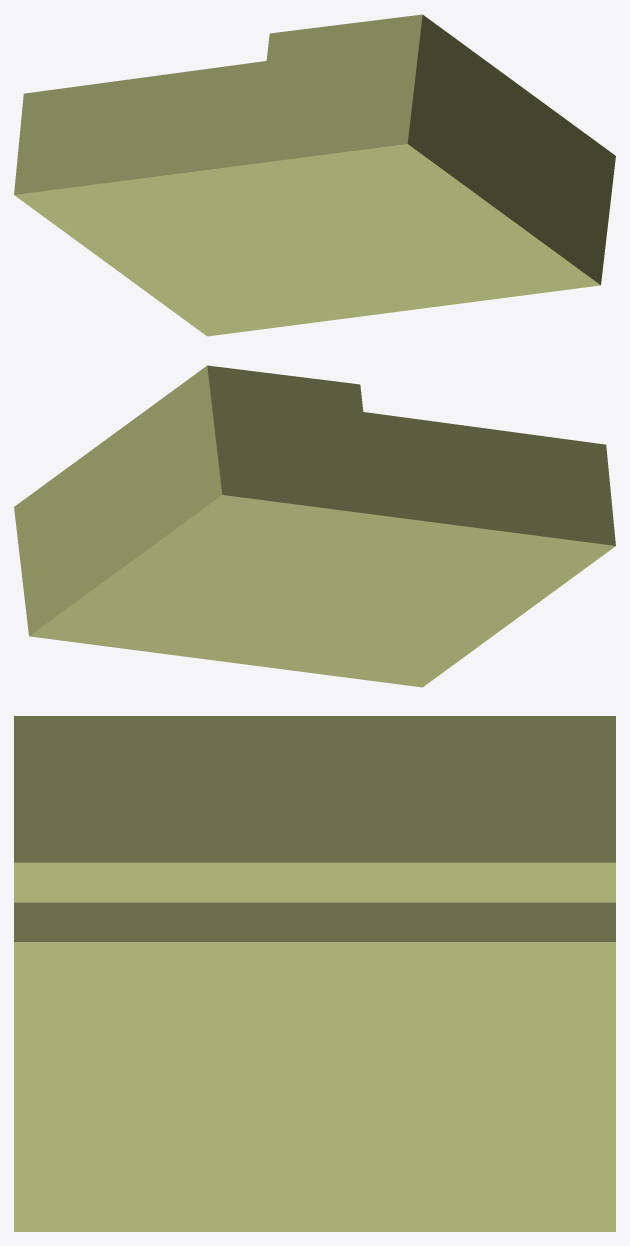
3 views of the same model, one above another, from view 1: azimuth 30°, elevation 25°; view 2: azimuth 150°, elevation 25°; view 3: azimuth 270°, elevation 25° (orthographic). The views are drawn at different scales.
Visible parts, largest first — view 1: 0_0_1_3_2_2_3_3_1_1_0; view 2: 0_0_1_3_2_2_3_3_1_1_0; view 3: 0_0_1_3_2_2_3_3_1_1_0.
Boxes of the visible parts, box(x1,y1,x2,y2) form: 0_0_1_3_2_2_3_3_1_1_0: box(14, 14, 615, 336); 0_0_1_3_2_2_3_3_1_1_0: box(14, 365, 615, 687); 0_0_1_3_2_2_3_3_1_1_0: box(14, 716, 615, 1231).
Size of the model in its own units: 10.99 by 3.7 by 9.
